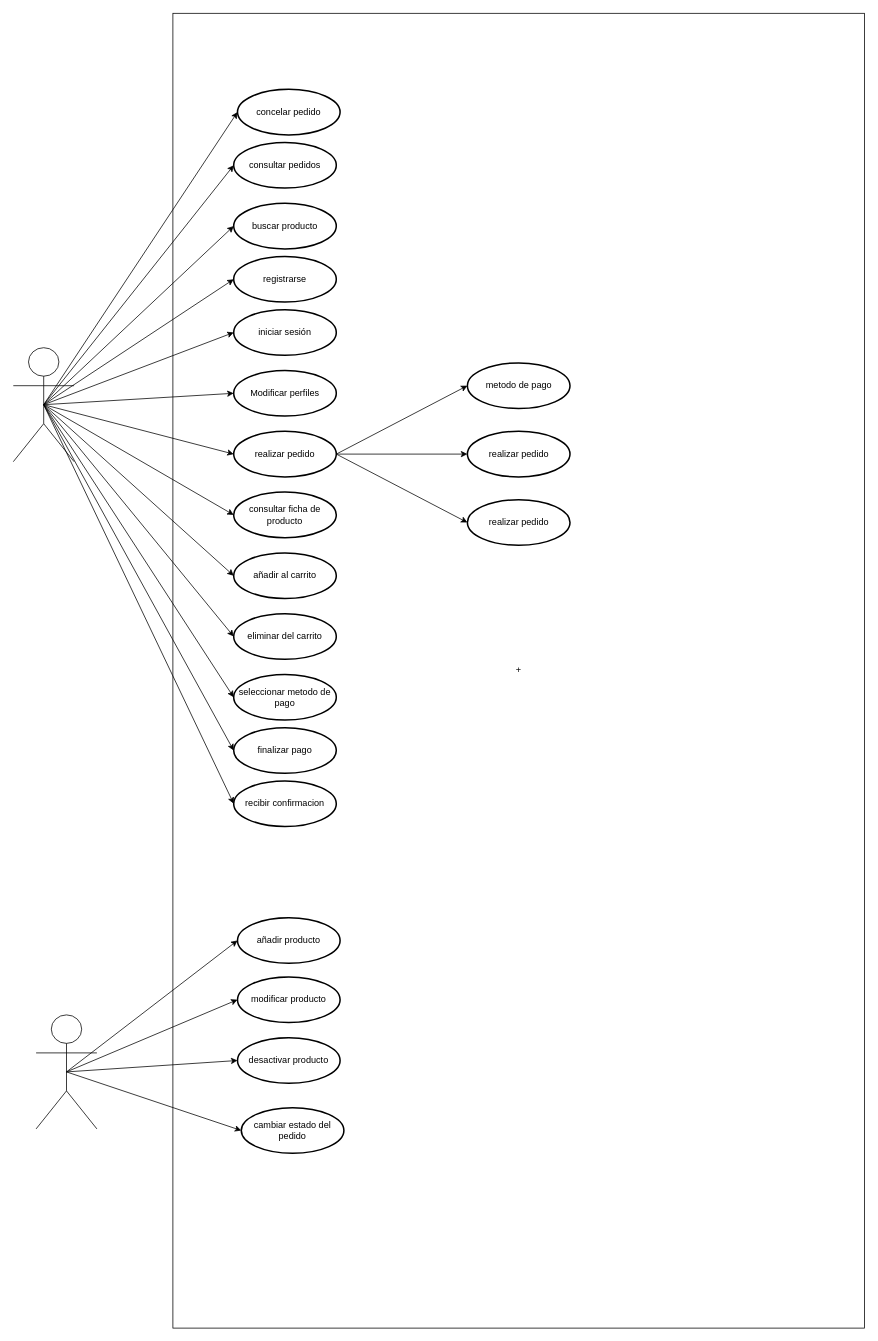
This 878x1341 diagram has some shape labels left out. The shapes that lost their labels are listed below. From the top down, each one's centre as x and y in pixels, then its label:
At (x=43, y=404): "usuario".
At (x=66, y=1071): "administrador".
